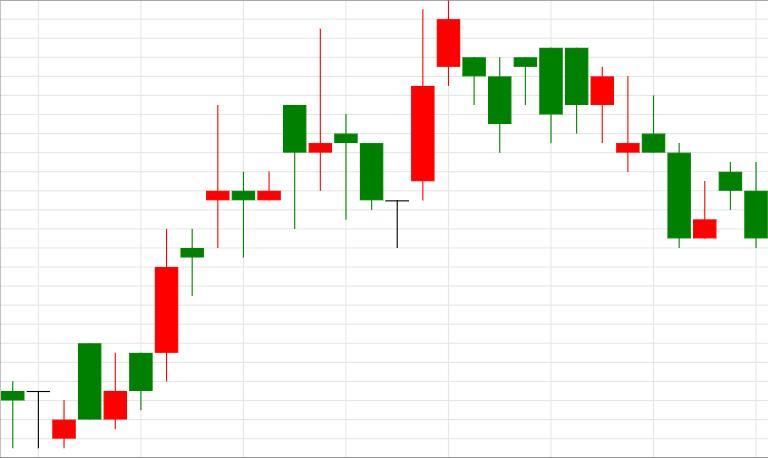morning_star_rise: (283, 9, 435, 249)
